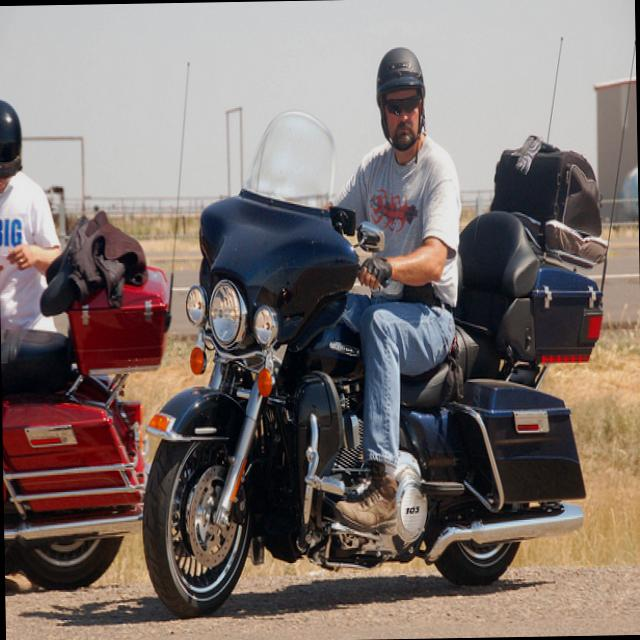Vehicle: (134, 108, 612, 622), (0, 258, 175, 595)
